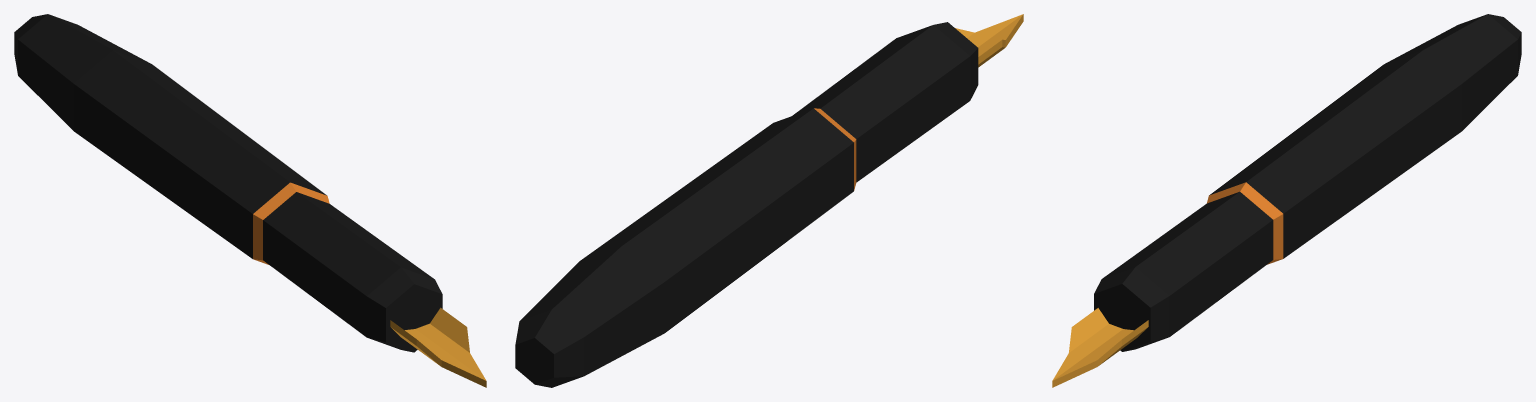
The model's file is pen.fbx.
The picture shows the model from 3 angles, left to right: view 1: azimuth 30°, elevation 25°; view 2: azimuth 150°, elevation 25°; view 3: azimuth 330°, elevation 25°; orthographic projection. The views are drawn at different scales.
Visible parts, largest first — view 1: pen; view 2: pen; view 3: pen.
Part boxes in pixels (x1=…): pen: x1=14, y1=14, x2=486, y2=387; pen: x1=515, y1=14, x2=1023, y2=387; pen: x1=1052, y1=14, x2=1521, y2=387.
Size of the model in its own units: 1.31 by 1.51 by 13.07.
